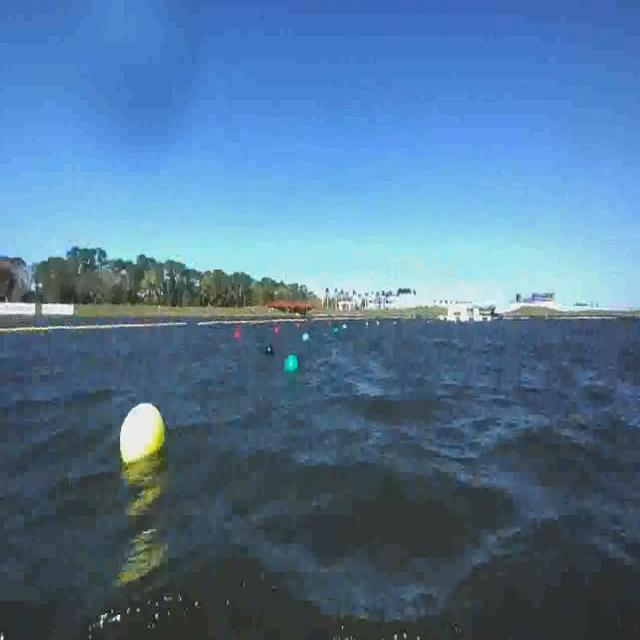black-buoy: (267, 346, 273, 356)
green-buoy: (285, 354, 298, 372)
red-column-buoy: (236, 326, 241, 338), (276, 325, 280, 336)
yellow-buoy: (120, 405, 165, 461)
